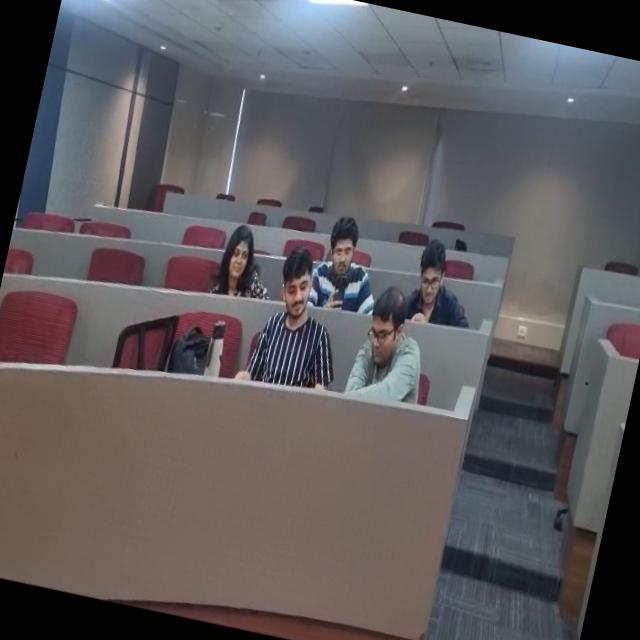cheating: (342, 278, 432, 410), (302, 208, 384, 324), (404, 228, 474, 328), (264, 242, 328, 340)
non-cheating: (206, 204, 284, 306)
